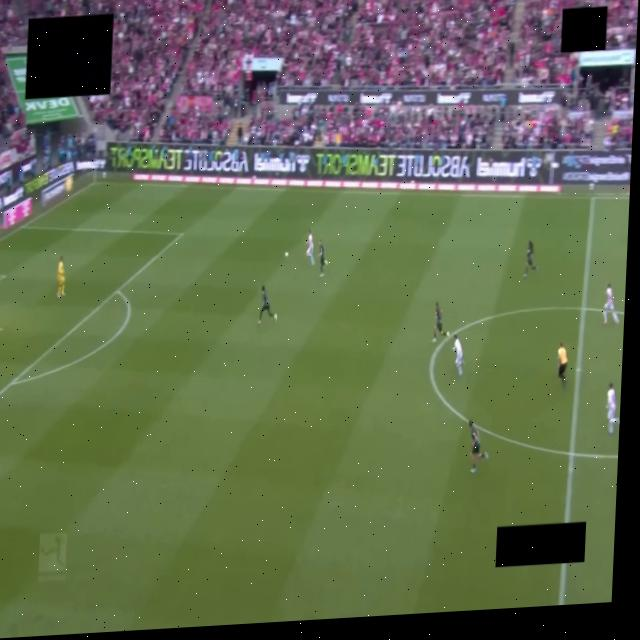ball: (284, 252, 288, 257)
player: (468, 420, 487, 473), (257, 286, 276, 324), (606, 383, 619, 434), (432, 302, 448, 342), (602, 283, 618, 323), (523, 240, 537, 278), (452, 335, 463, 377), (318, 240, 327, 276), (306, 230, 314, 266), (57, 257, 64, 298)
referee: (557, 343, 567, 387)
